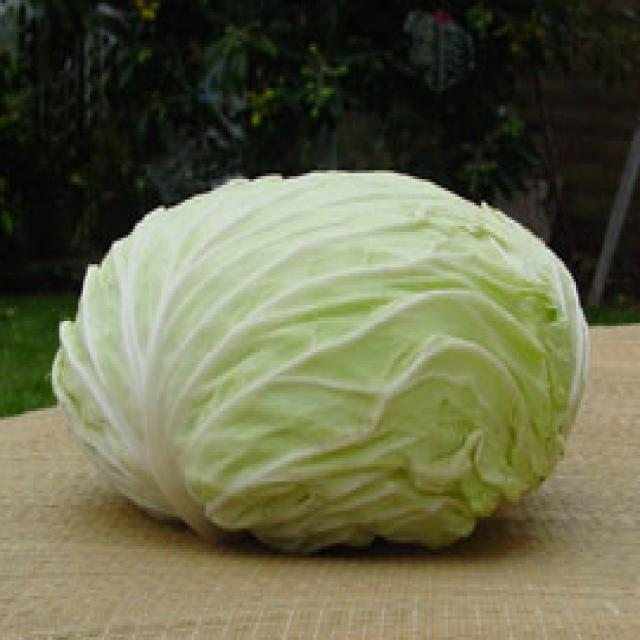Cabbage: (37, 154, 596, 576)
